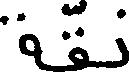X: (0, 8, 36, 69), (70, 0, 86, 71), (118, 4, 128, 71)
